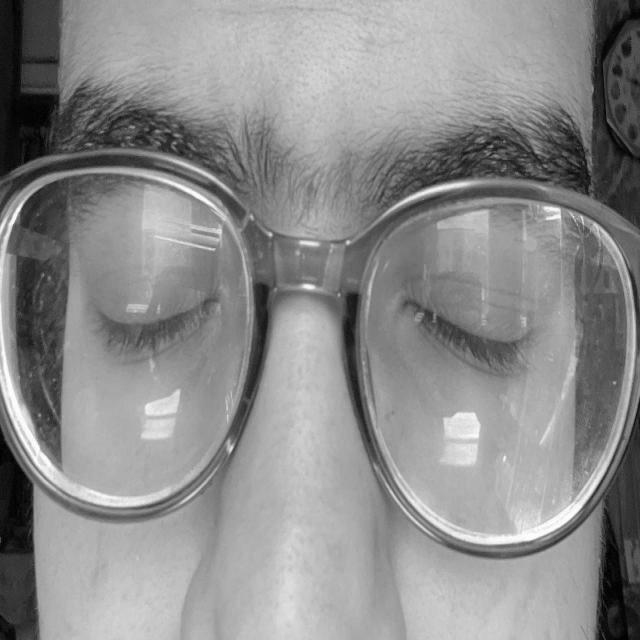real: (53, 138, 579, 474)
